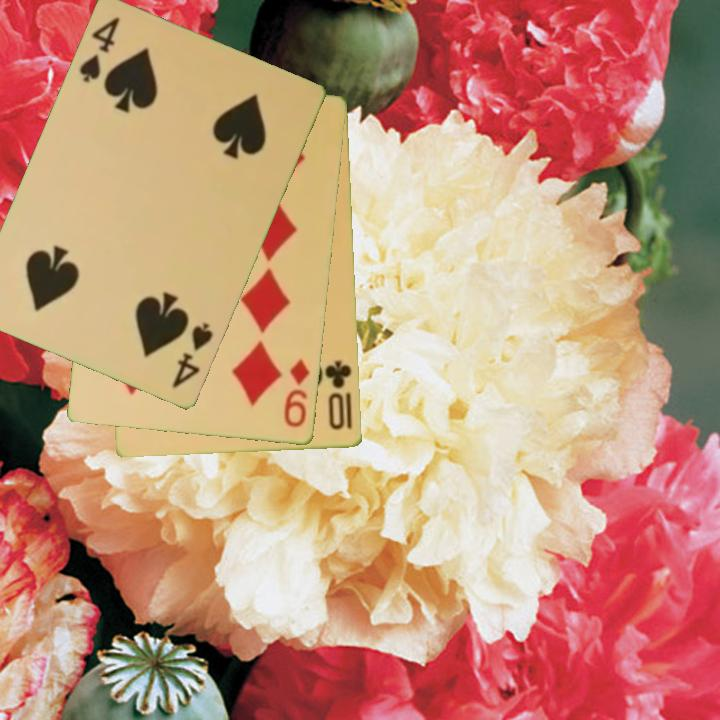10c: (321, 357, 355, 433)
4s: (75, 14, 123, 86), (169, 319, 216, 392)
9d: (280, 355, 313, 431)
